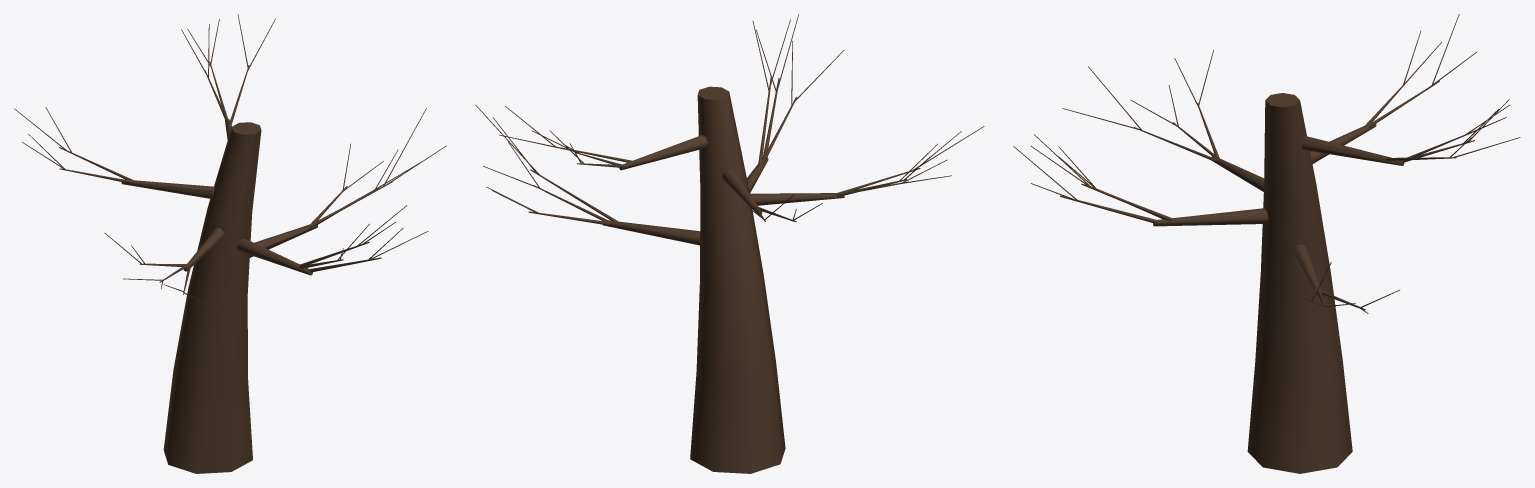
Rendered from tree-trunk.glb.
3 renders of one model, left to right at view 1: azimuth 30°, elevation 25°; view 2: azimuth 150°, elevation 25°; view 3: azimuth 270°, elevation 25°, orthographic. The views are drawn at different scales.
Parts seen in each view (by area): view 1: ProceduralTreeTrunk; view 2: ProceduralTreeTrunk; view 3: ProceduralTreeTrunk.
Boxes of the visible parts, x1,y1,x2,y2 form: ProceduralTreeTrunk: [14, 14, 446, 473]; ProceduralTreeTrunk: [475, 14, 984, 473]; ProceduralTreeTrunk: [1013, 14, 1520, 473].
Bounding box in the file's own units: 3.95 × 3.47 × 4.05.
